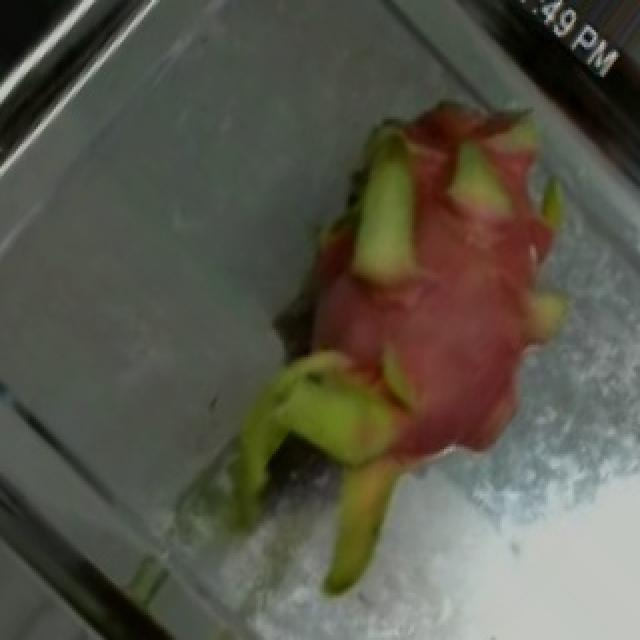fruit: (206, 37, 634, 496)
